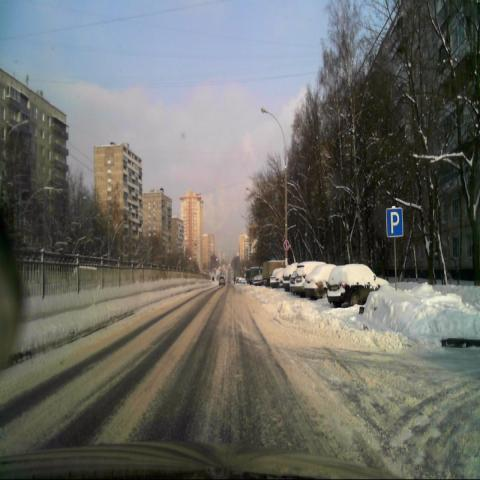6_4: (386, 207, 404, 238)
